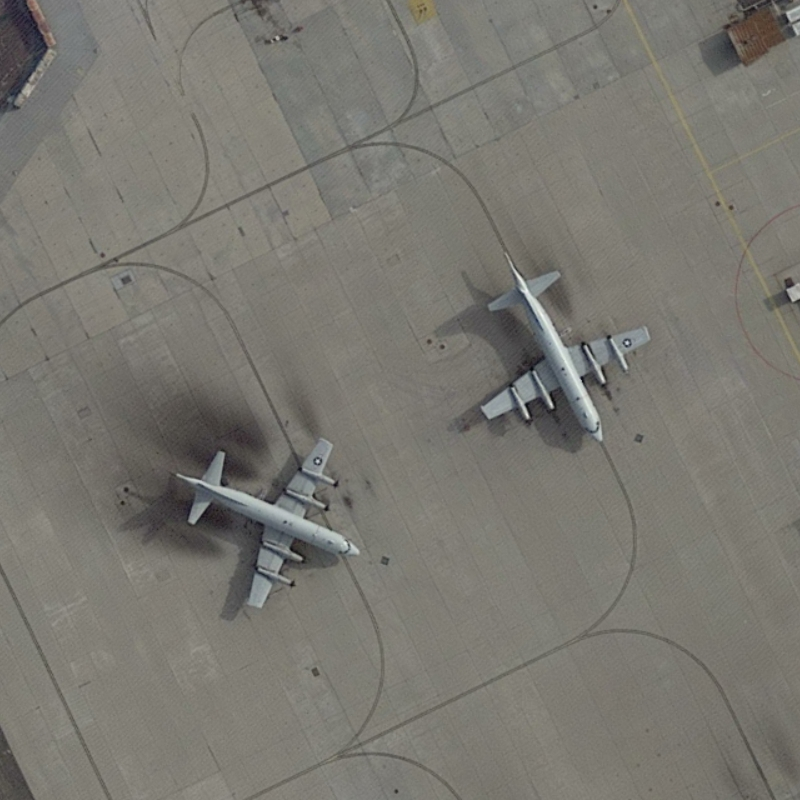A9: (156, 429, 370, 619), (476, 244, 656, 453)
